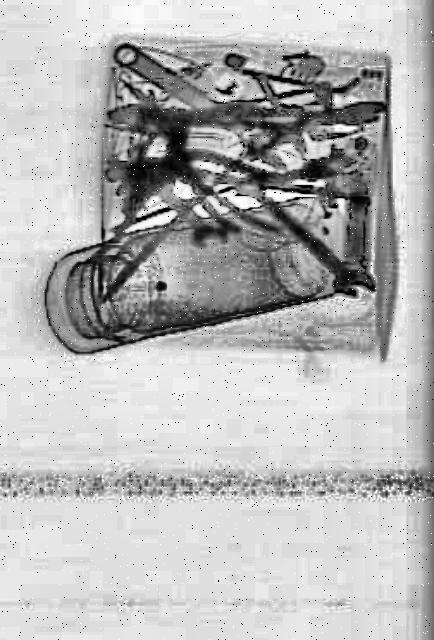Wrench: (110, 23, 314, 188), (235, 165, 382, 319), (150, 164, 238, 268), (304, 102, 390, 136)
